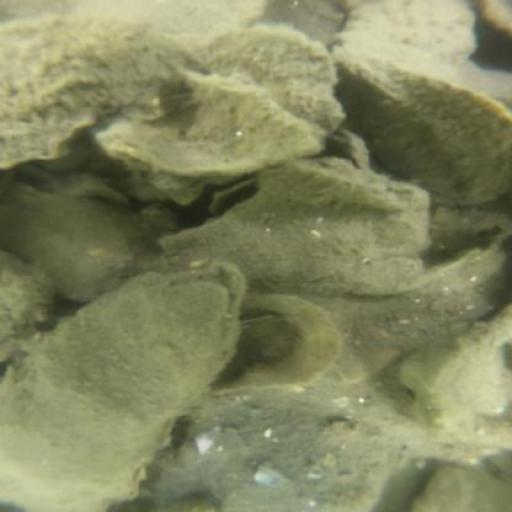Oyster-Closed: (162, 160, 432, 295), (2, 15, 203, 166), (158, 390, 404, 512), (336, 48, 512, 207), (193, 26, 349, 144), (7, 187, 151, 300), (339, 1, 489, 81), (71, 2, 277, 41), (260, 163, 404, 212), (4, 253, 53, 357), (415, 465, 512, 509)
Oyster-Open: (12, 267, 250, 504)
